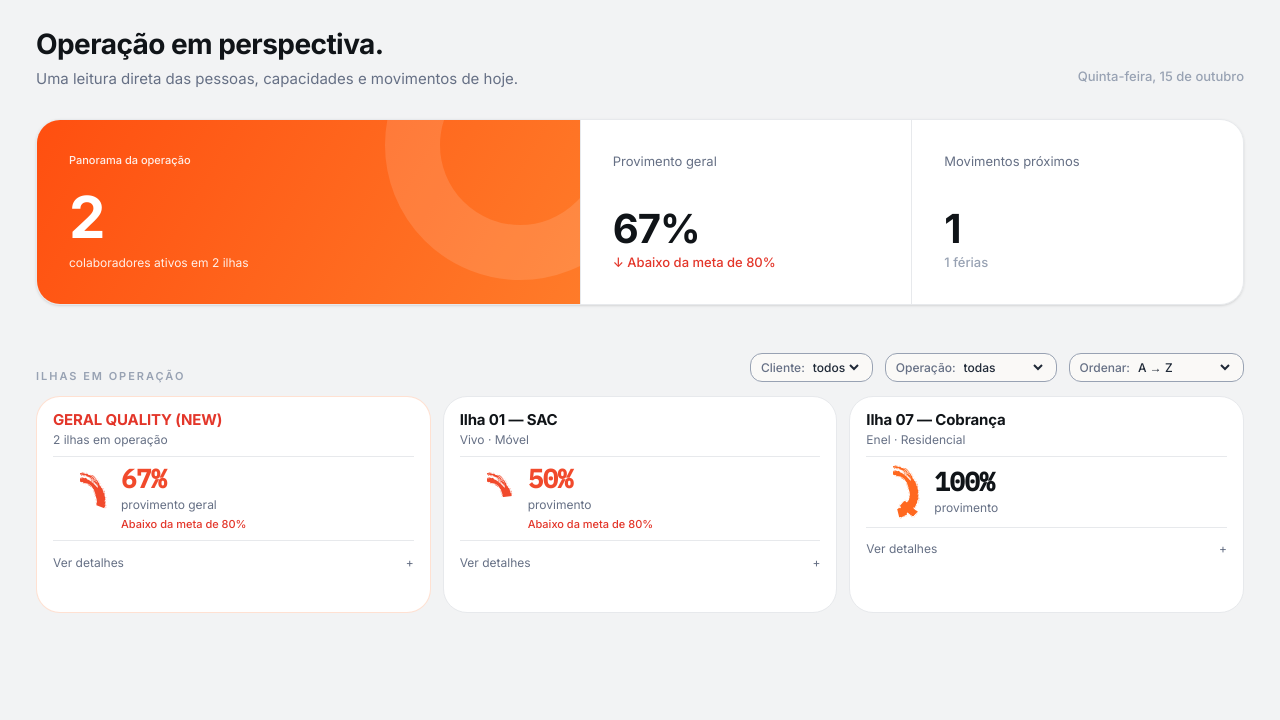
Scenario: Visão geral › recalcula a faixa e o consolidado quando o filtro recorta o mapa
The width and height of the screenshot is (1280, 720).
Expected: the heading "Ilha 01 — SAC" is shown, x1=460 y1=410 x2=558 y2=429
Select "Enel" in the dropdown named "Filtrar ilhas por cliente": (835, 368) x1=809 y1=359 x2=862 y2=376
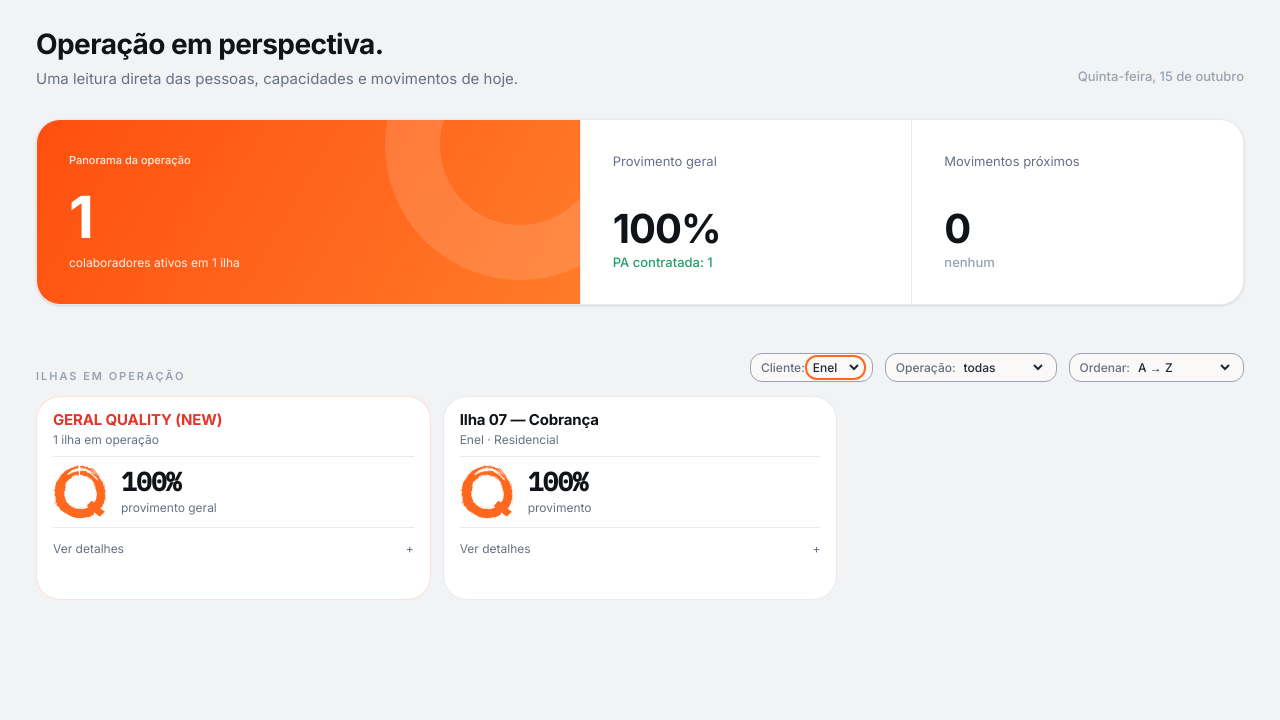
Expected: the button "Ilha 01 — SAC" is gone
Expected: the text "1 ilha em operação" is shown, x1=53 y1=432 x2=159 y2=447
Expected: the text "67%" is gone
